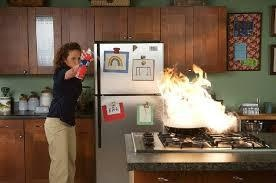fire: (155, 63, 236, 132)
